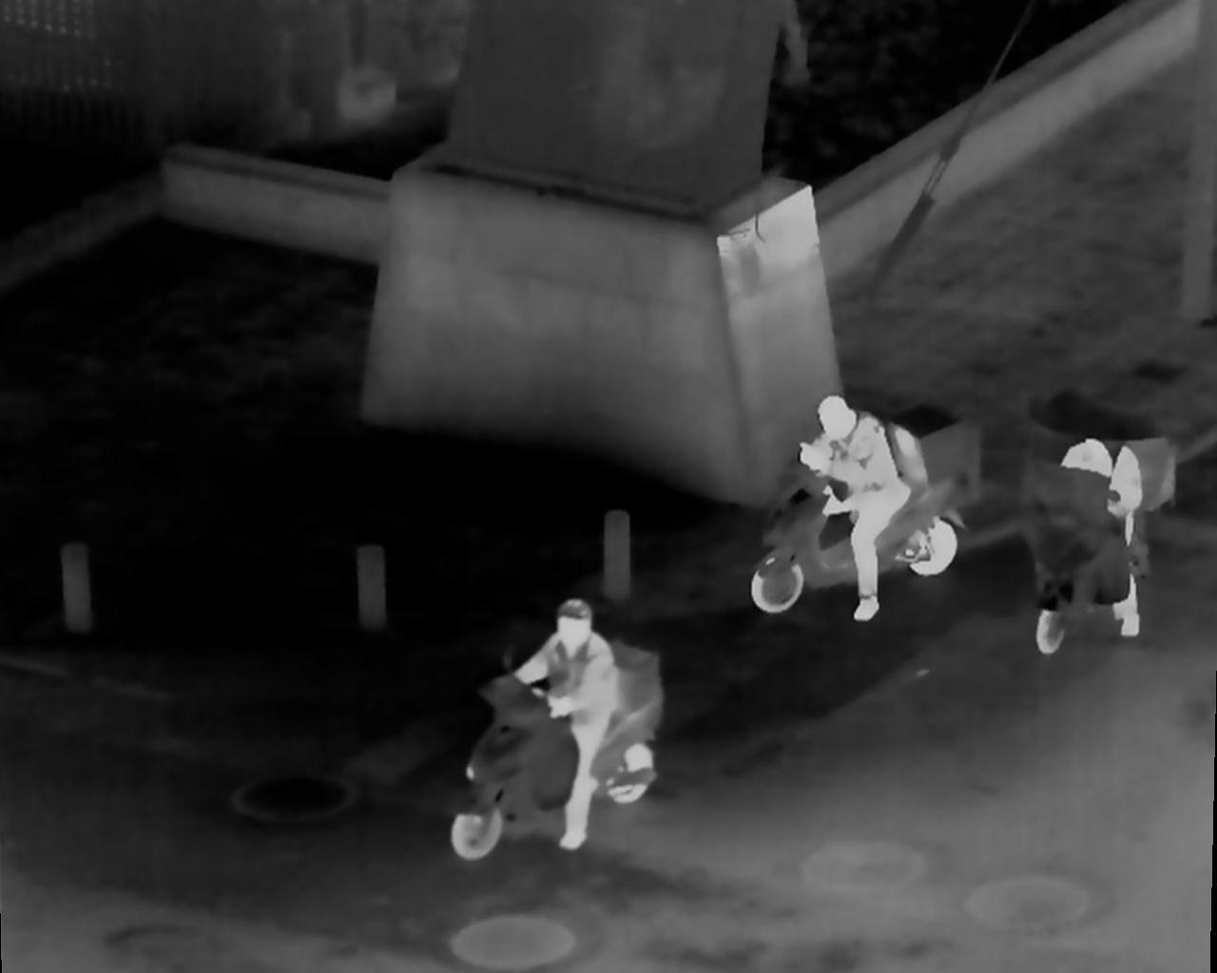person: (1038, 425, 1162, 649), (822, 392, 915, 623), (529, 601, 611, 853)
